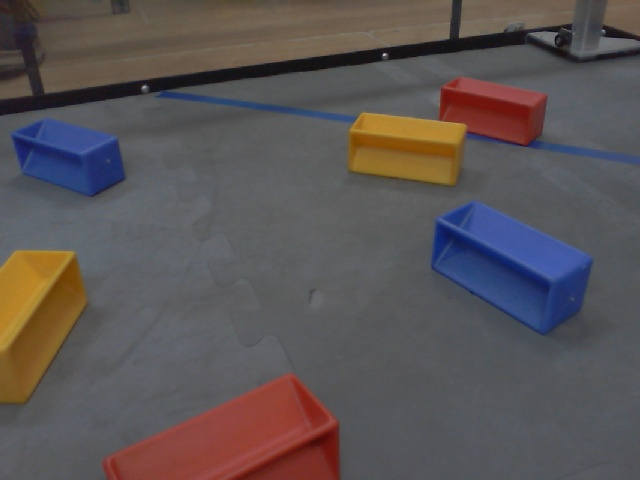BlueSample: (428, 196, 595, 337), (8, 115, 126, 201)
RedSample: (98, 372, 343, 480), (430, 74, 549, 147)
YellowSample: (1, 248, 91, 402), (345, 106, 466, 188)
